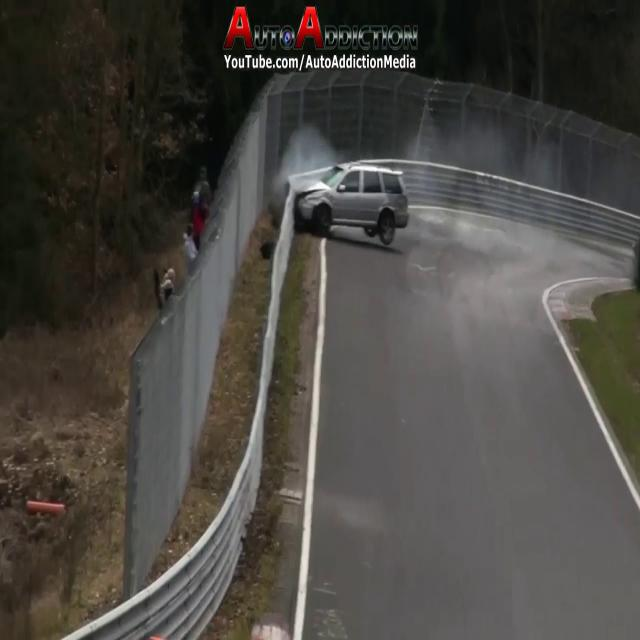accident: (272, 116, 414, 248)
